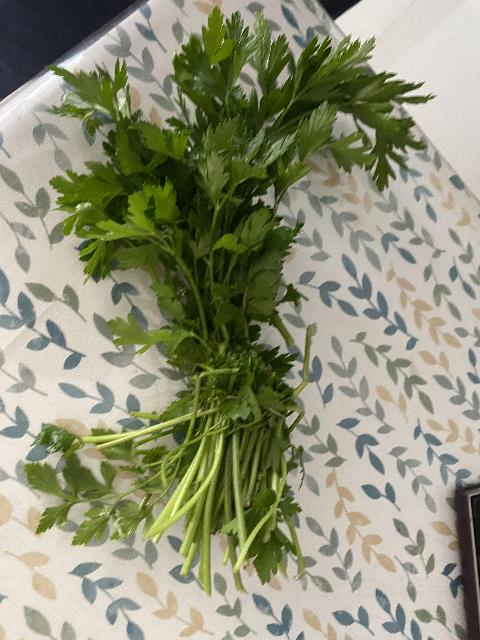Organik: (43, 51, 360, 579)
